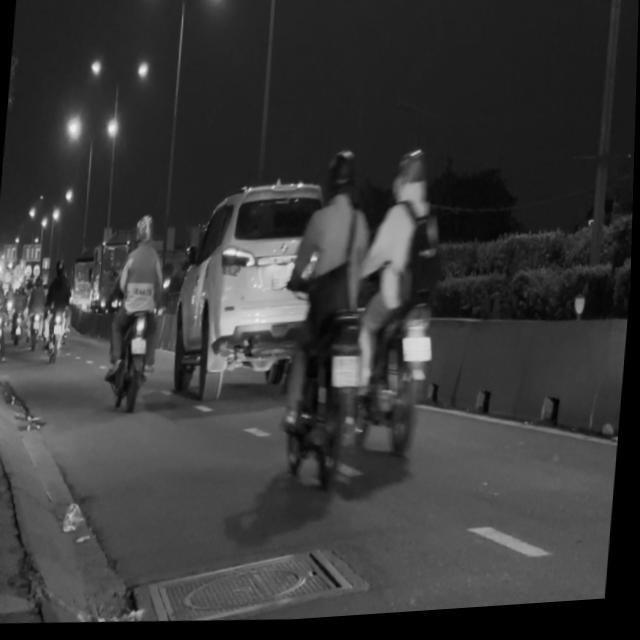helmet: (395, 151, 433, 209), (326, 149, 363, 207)
licenseplate: (275, 144, 385, 505), (350, 145, 457, 488)
nohelmet: (333, 357, 366, 392), (404, 339, 436, 369)
